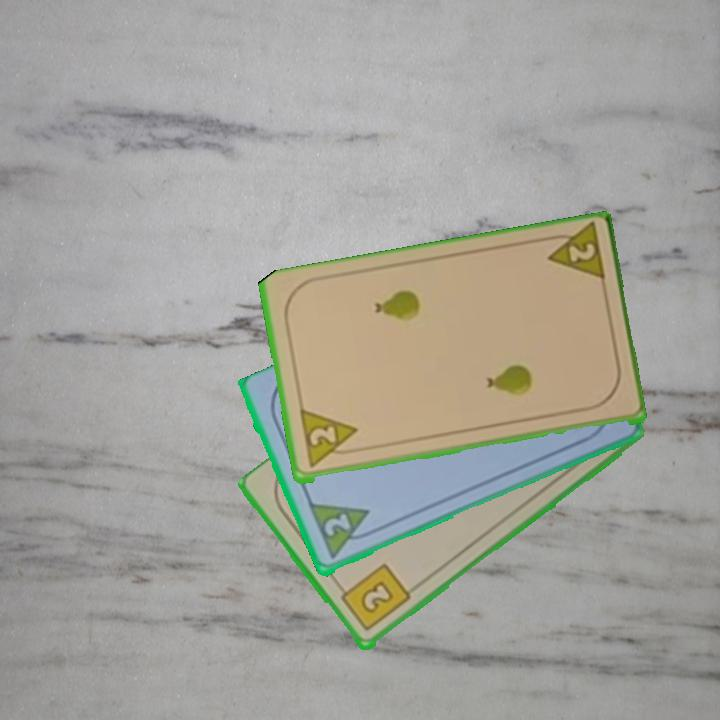2b: (334, 561, 414, 635)
2p: (539, 222, 608, 287), (296, 408, 362, 471), (320, 510, 354, 540)
